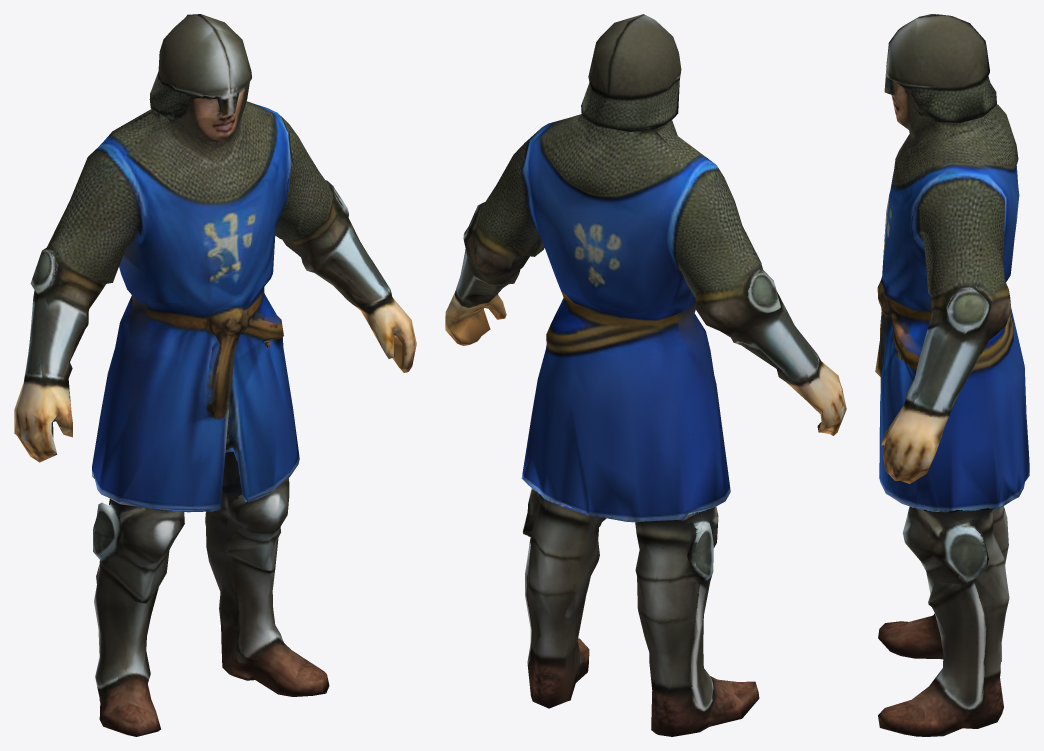
The model's file is man-at-arms.glb.
The picture shows the model from 3 angles, left to right: view 1: azimuth 30°, elevation 25°; view 2: azimuth 150°, elevation 25°; view 3: azimuth 270°, elevation 25°; orthographic projection.
Parts seen in each view (by area): view 1: geometry_0; view 2: geometry_0; view 3: geometry_0.
Boxes of the visible parts, x1,y1,x2,y2 form: geometry_0: [14, 14, 416, 736]; geometry_0: [445, 14, 846, 736]; geometry_0: [875, 14, 1029, 736].
Bounding box in the file's own units: 0.5986 × 1 × 0.2076.
Materials: 1 (1 with a texture image).
